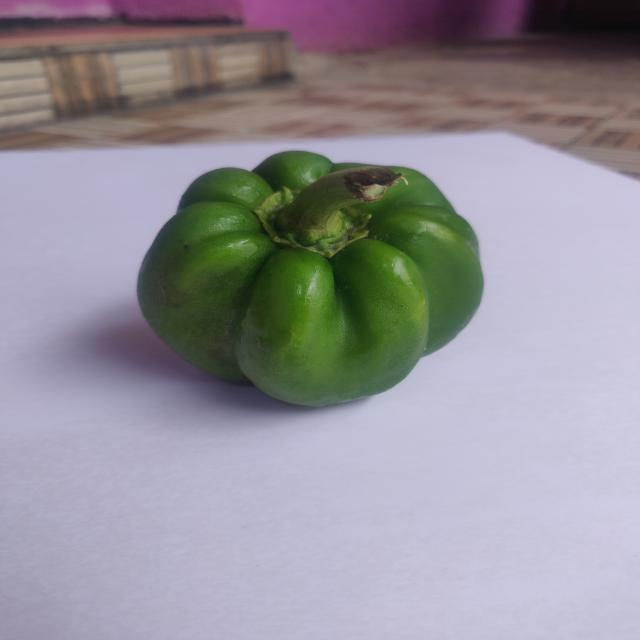Capsicum: (136, 140, 497, 420)
